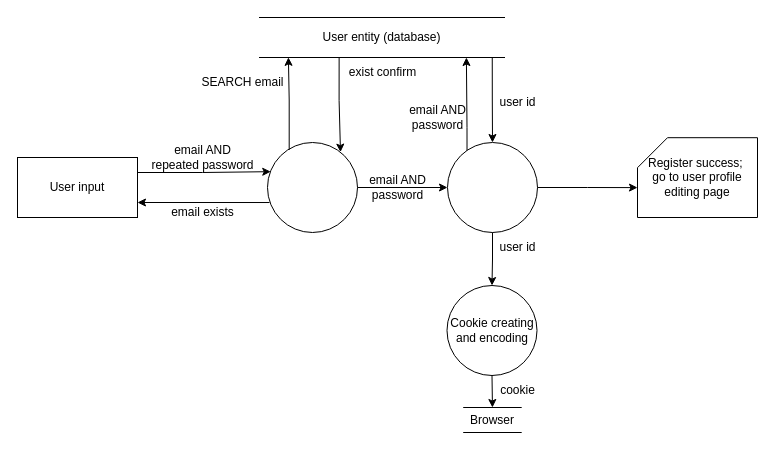
This 775x450 diagram has some shape labels left out. The shapes that lost their labels are listed below. From the top down, each one's centre as x and y in pixels, then its label:
[312,187]: Email verifying system
[492,187]: Registration System
